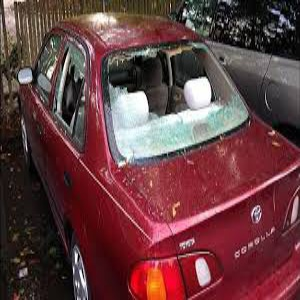rear_windshield_glass: (108, 47, 234, 150)
